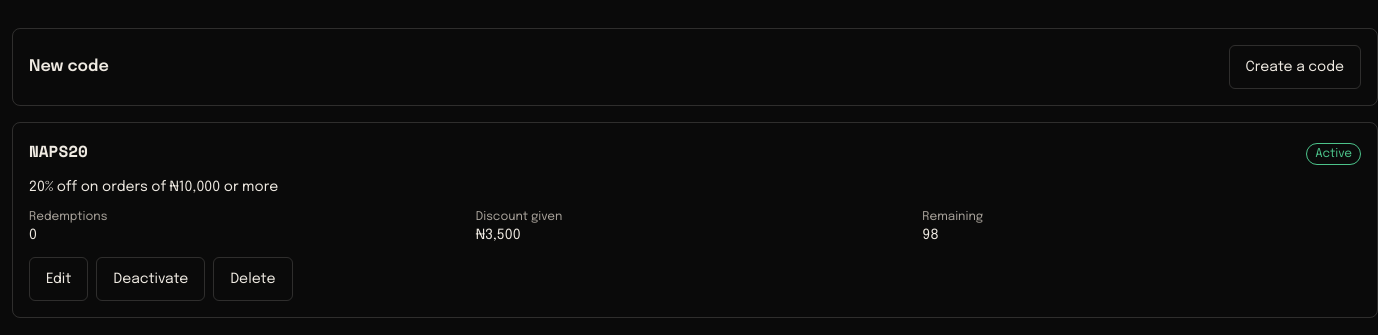
PromoCodes › deletes an unused code
Click the button with aria-label "Delete NAPS20" at (253, 279), box [213, 257, 292, 301]
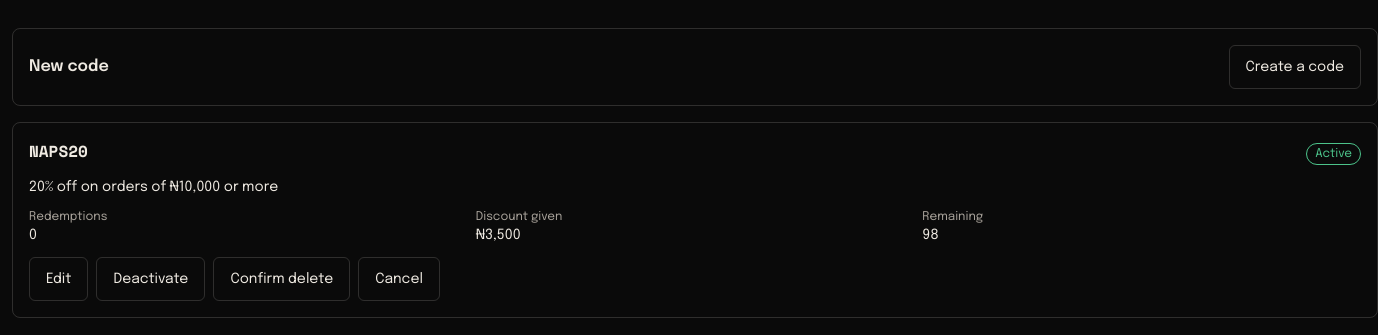
Click the button "Confirm delete" at (282, 279), box [213, 257, 350, 301]
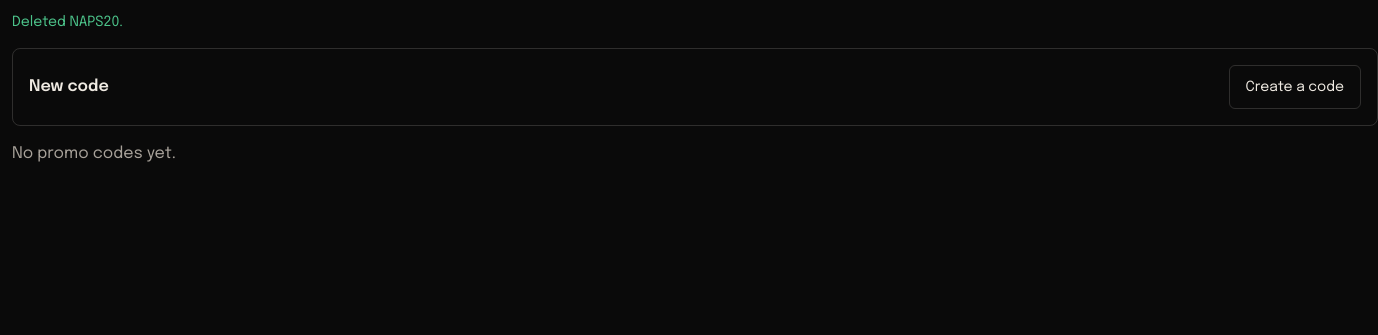
Check: the text "Deleted NAPS20." is shown, box [12, 15, 123, 29]
Check: the text "No promo codes yet." is shown, box [12, 145, 176, 162]
